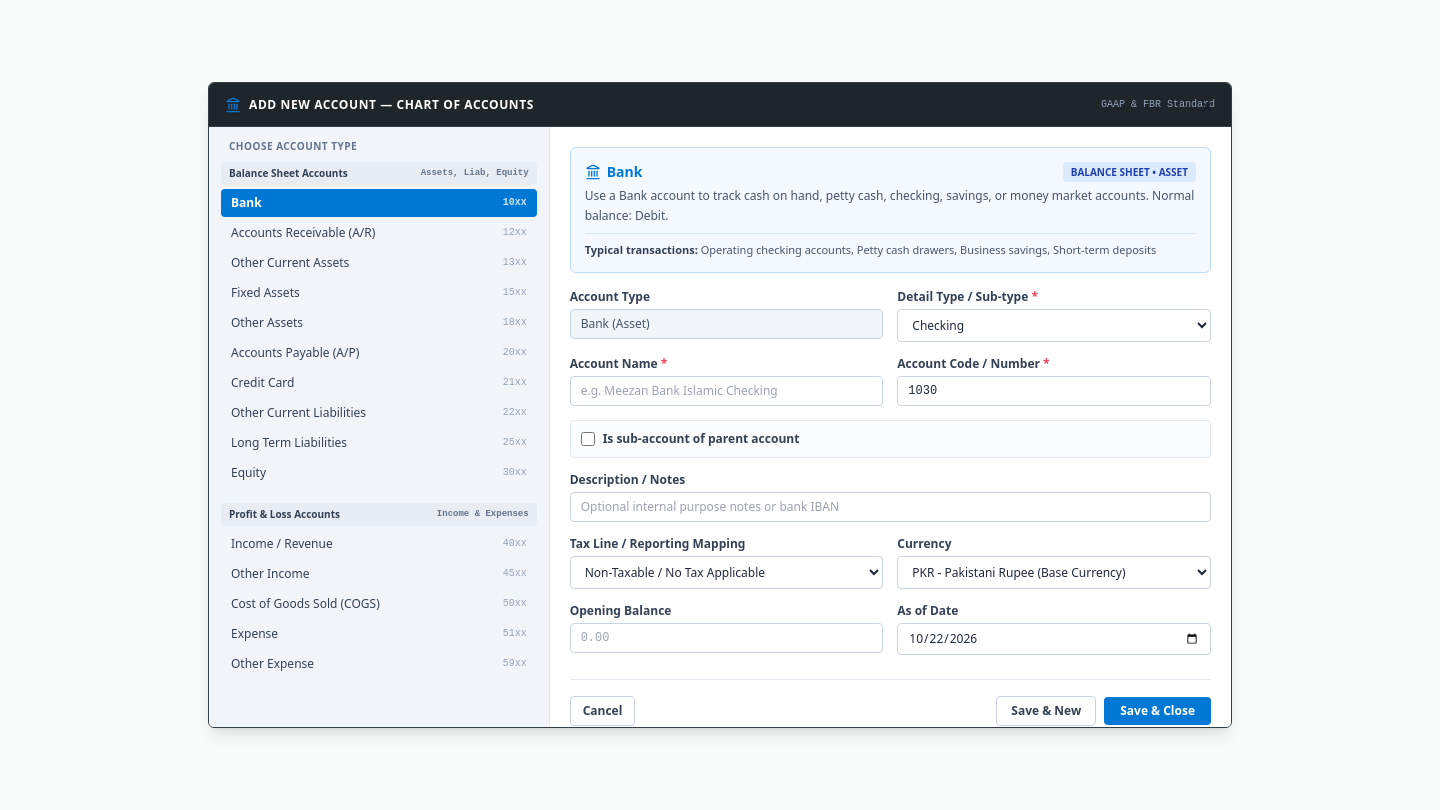
it: Add Account Dialog (Two-Panel Interface) › dynamically updates right panel guidance when changing account type
Switch to Fixed Assets
What coordinates should you click on to do the following:
click the button "Fixed Assets 15xx"
I would click on:
 (265, 292)
Its box is [221,279,537,307].
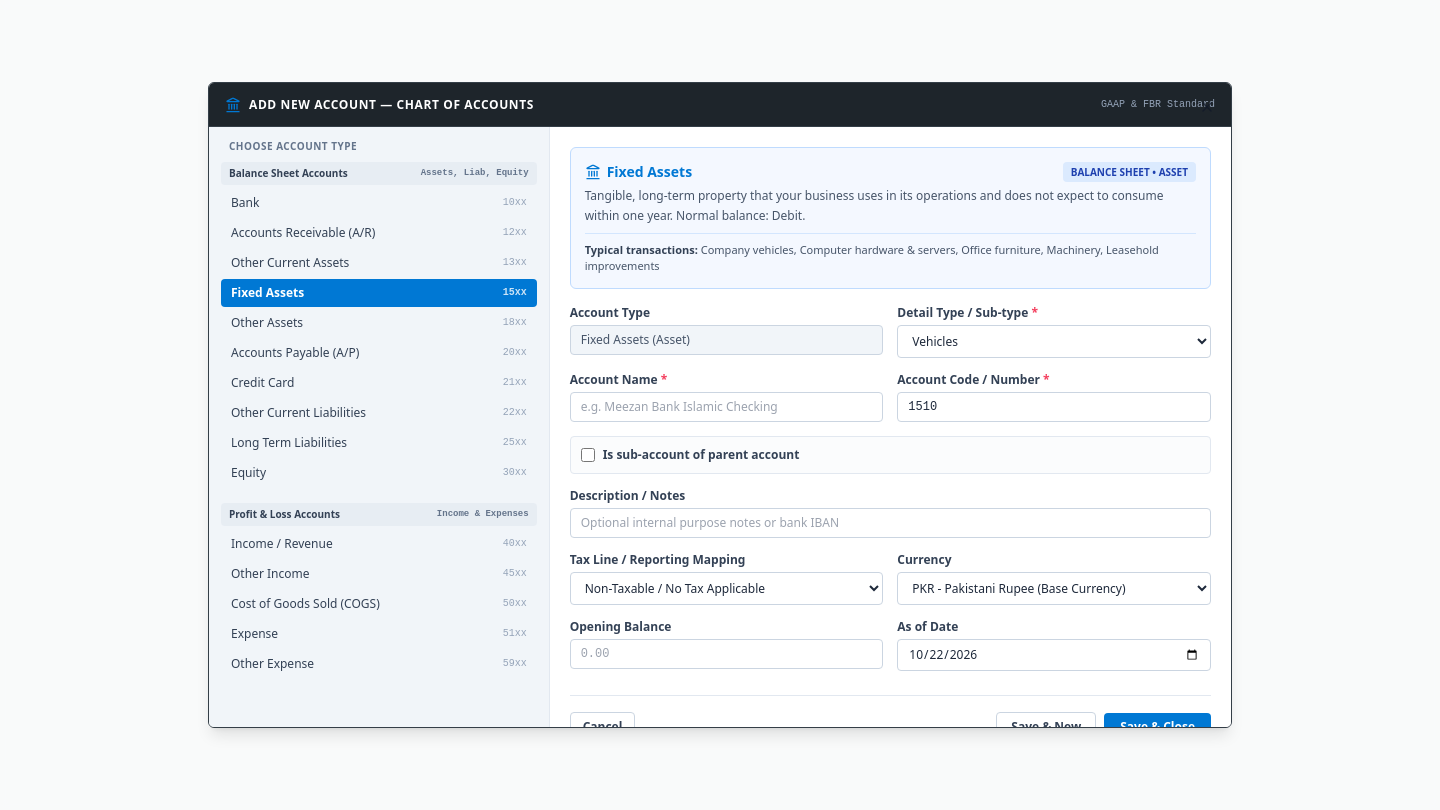
Now the text "Tangible, long-term property" is shown, box [585,187,1164,224]
Now the text "Company vehicles" is shown, box [585,242,1159,273]
